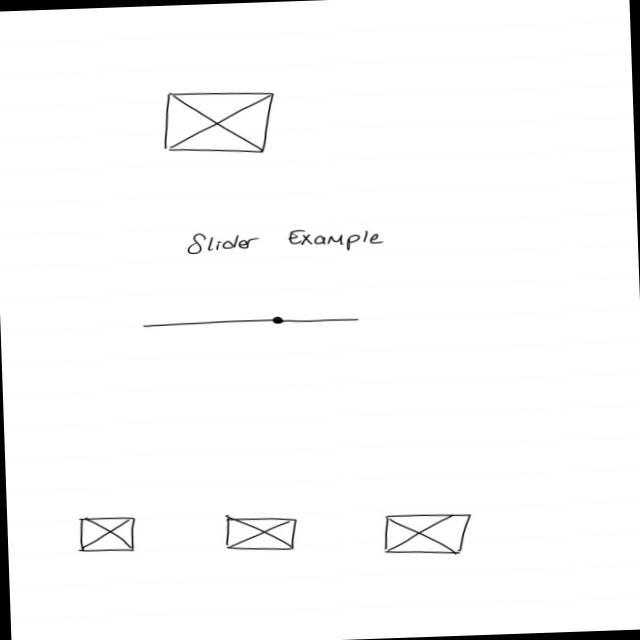image: (160, 89, 278, 157), (380, 510, 473, 558), (221, 512, 300, 554), (75, 514, 138, 554)
label: (183, 224, 388, 258)
slider: (140, 312, 361, 332)
